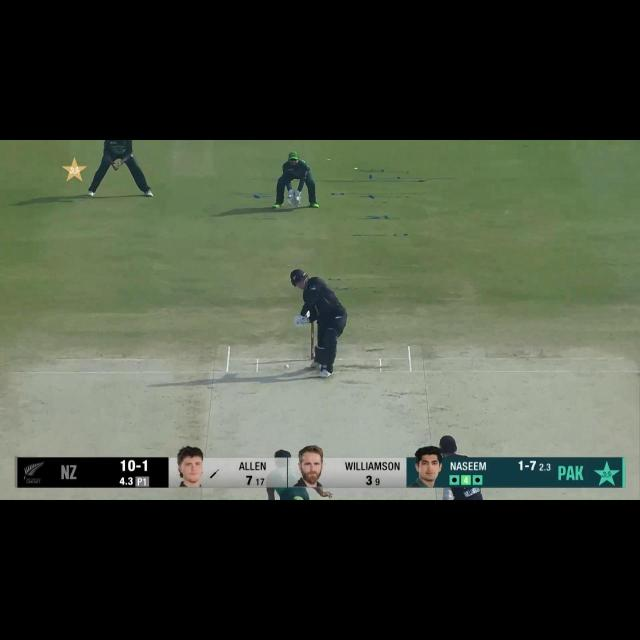bat: (306, 310, 310, 318)
